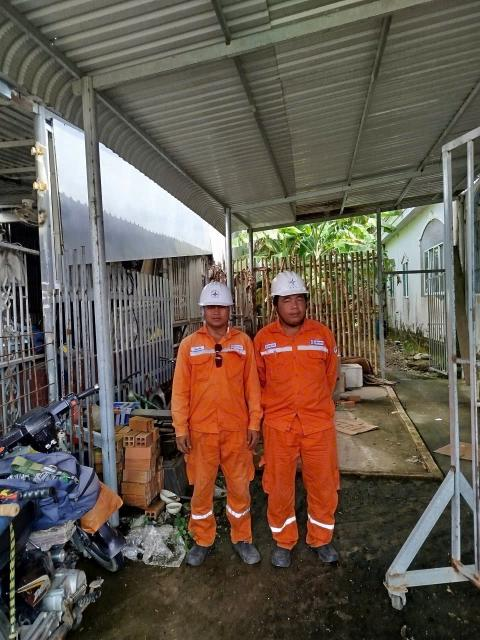helmet: (191, 276, 241, 314), (264, 263, 312, 301)
shoes: (177, 533, 218, 571), (227, 530, 265, 566), (265, 533, 296, 575), (310, 540, 344, 566)
